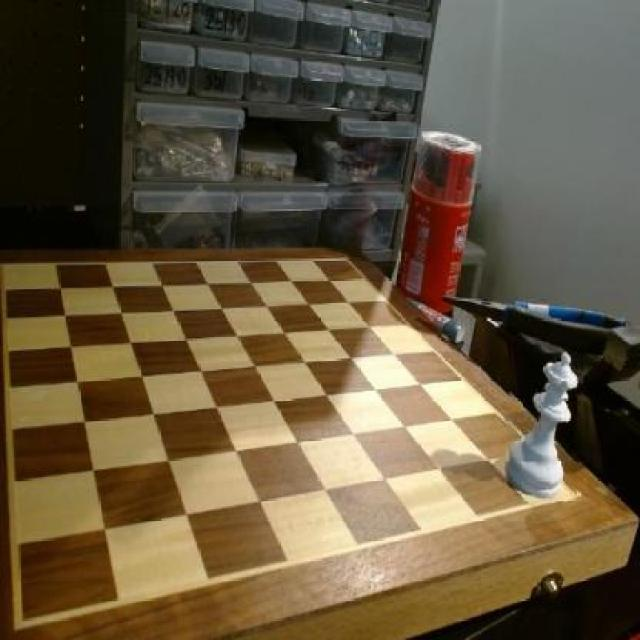white-pawn: (506, 344, 583, 504)
